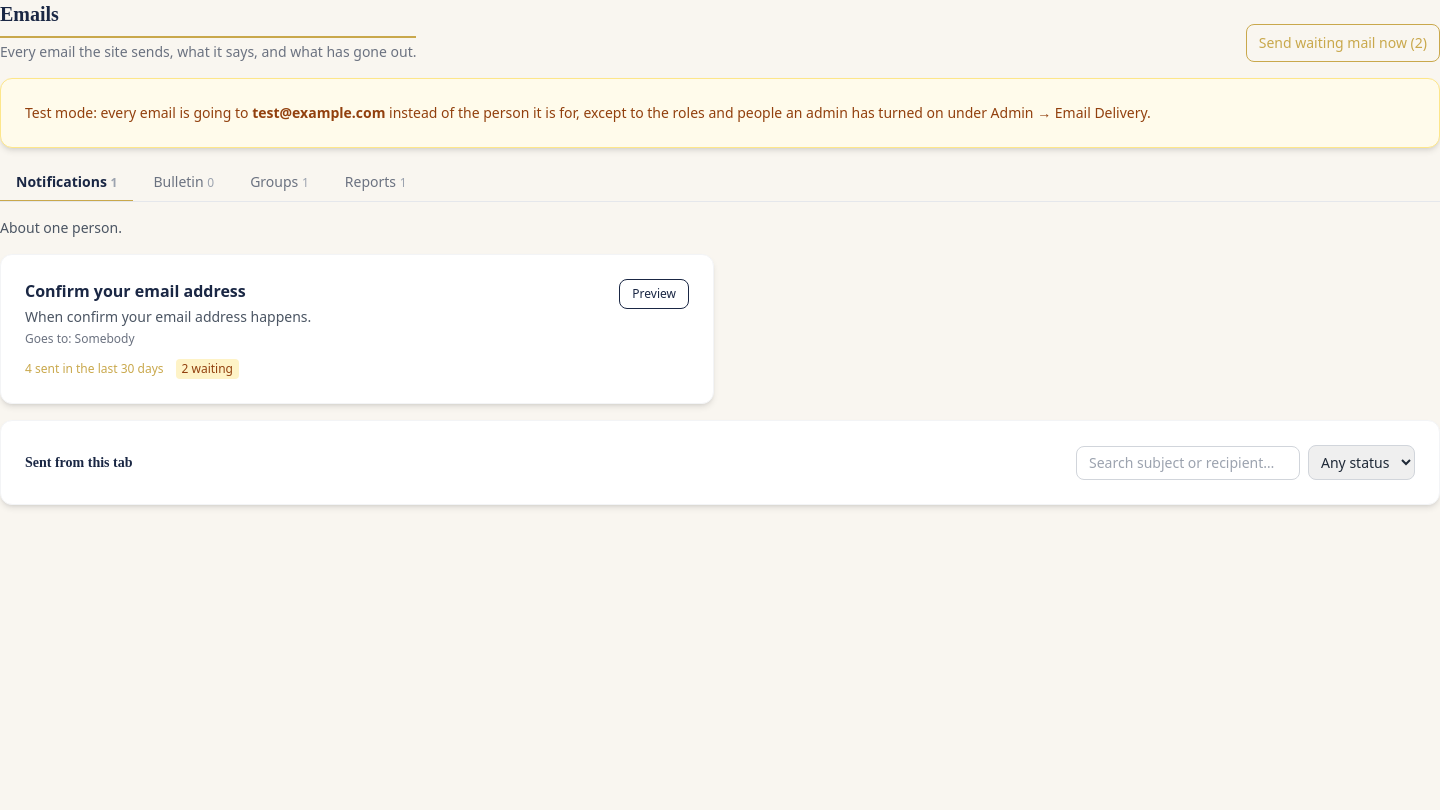
Test: EmailsView › lists what went out on the tab, and opens one to read
The width and height of the screenshot is (1440, 810).
Click the tab "Groups 1". click: (279, 183)
box: [234,164,325,202]
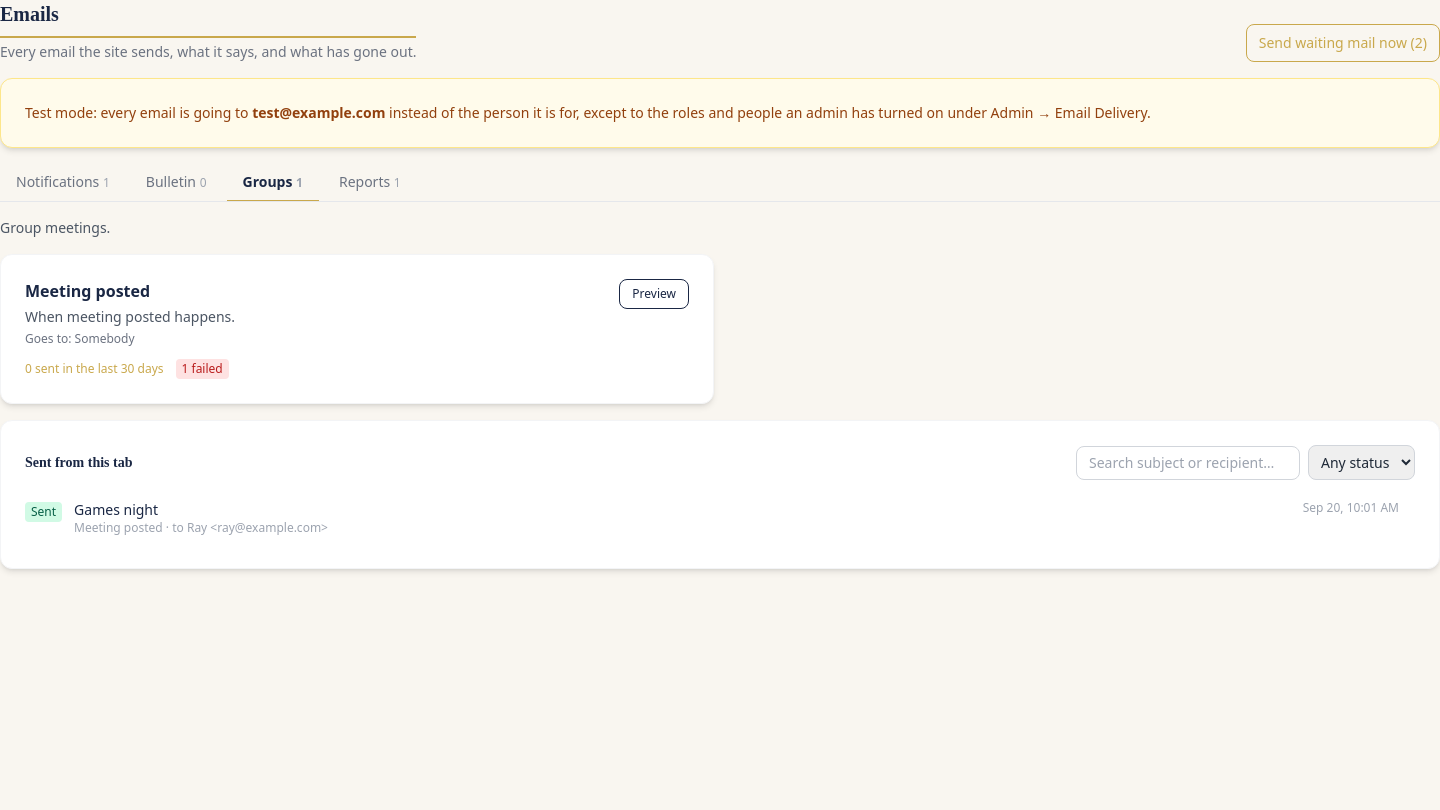
Click the text "Games night". click: (116, 510)
box: [74,500,158,519]
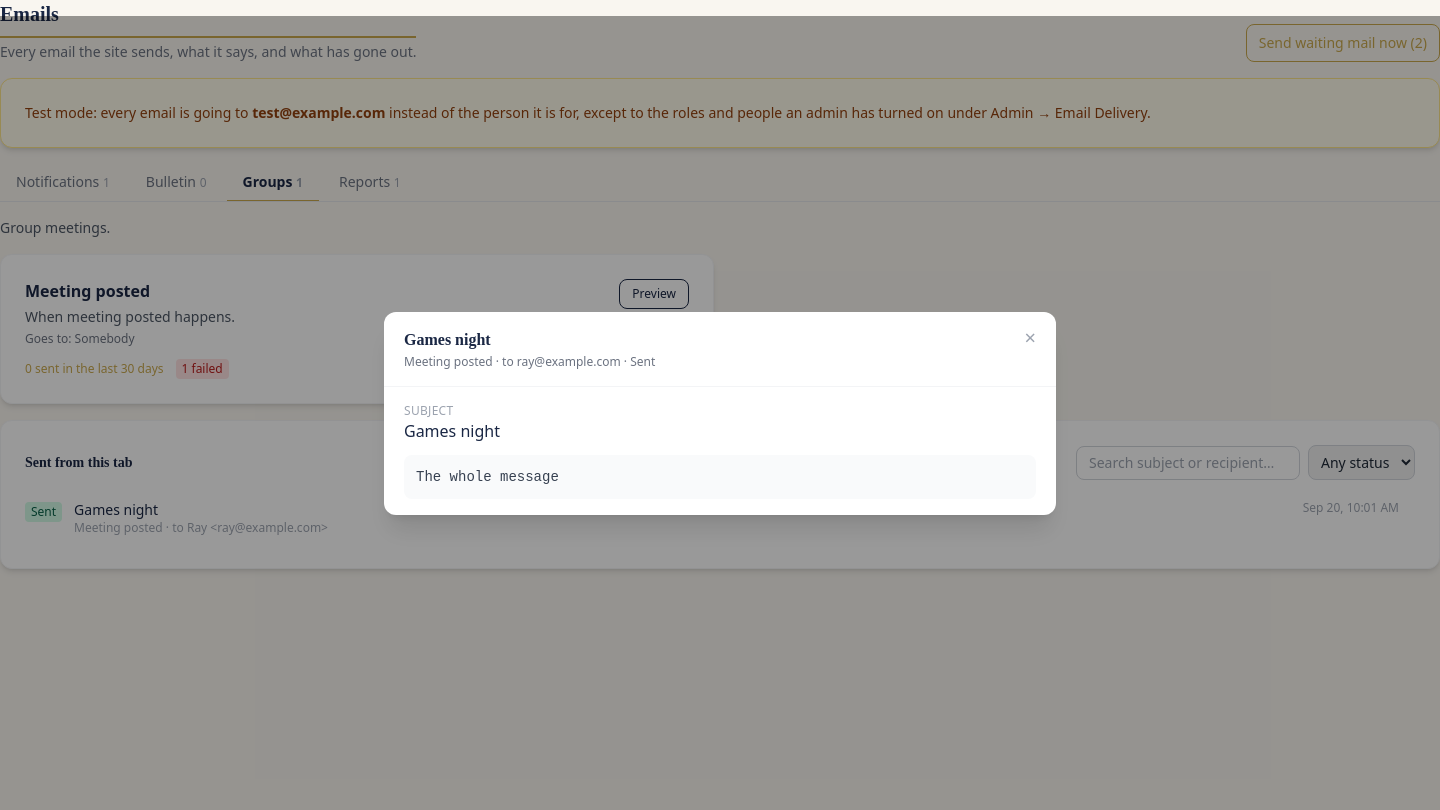
Now the text "The whole message" is shown, box [404,454,1036,498]
